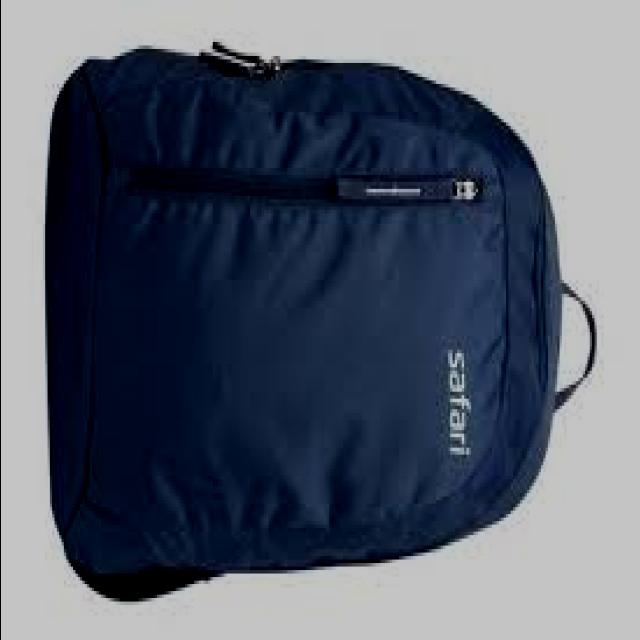backpack: (45, 40, 599, 603)
